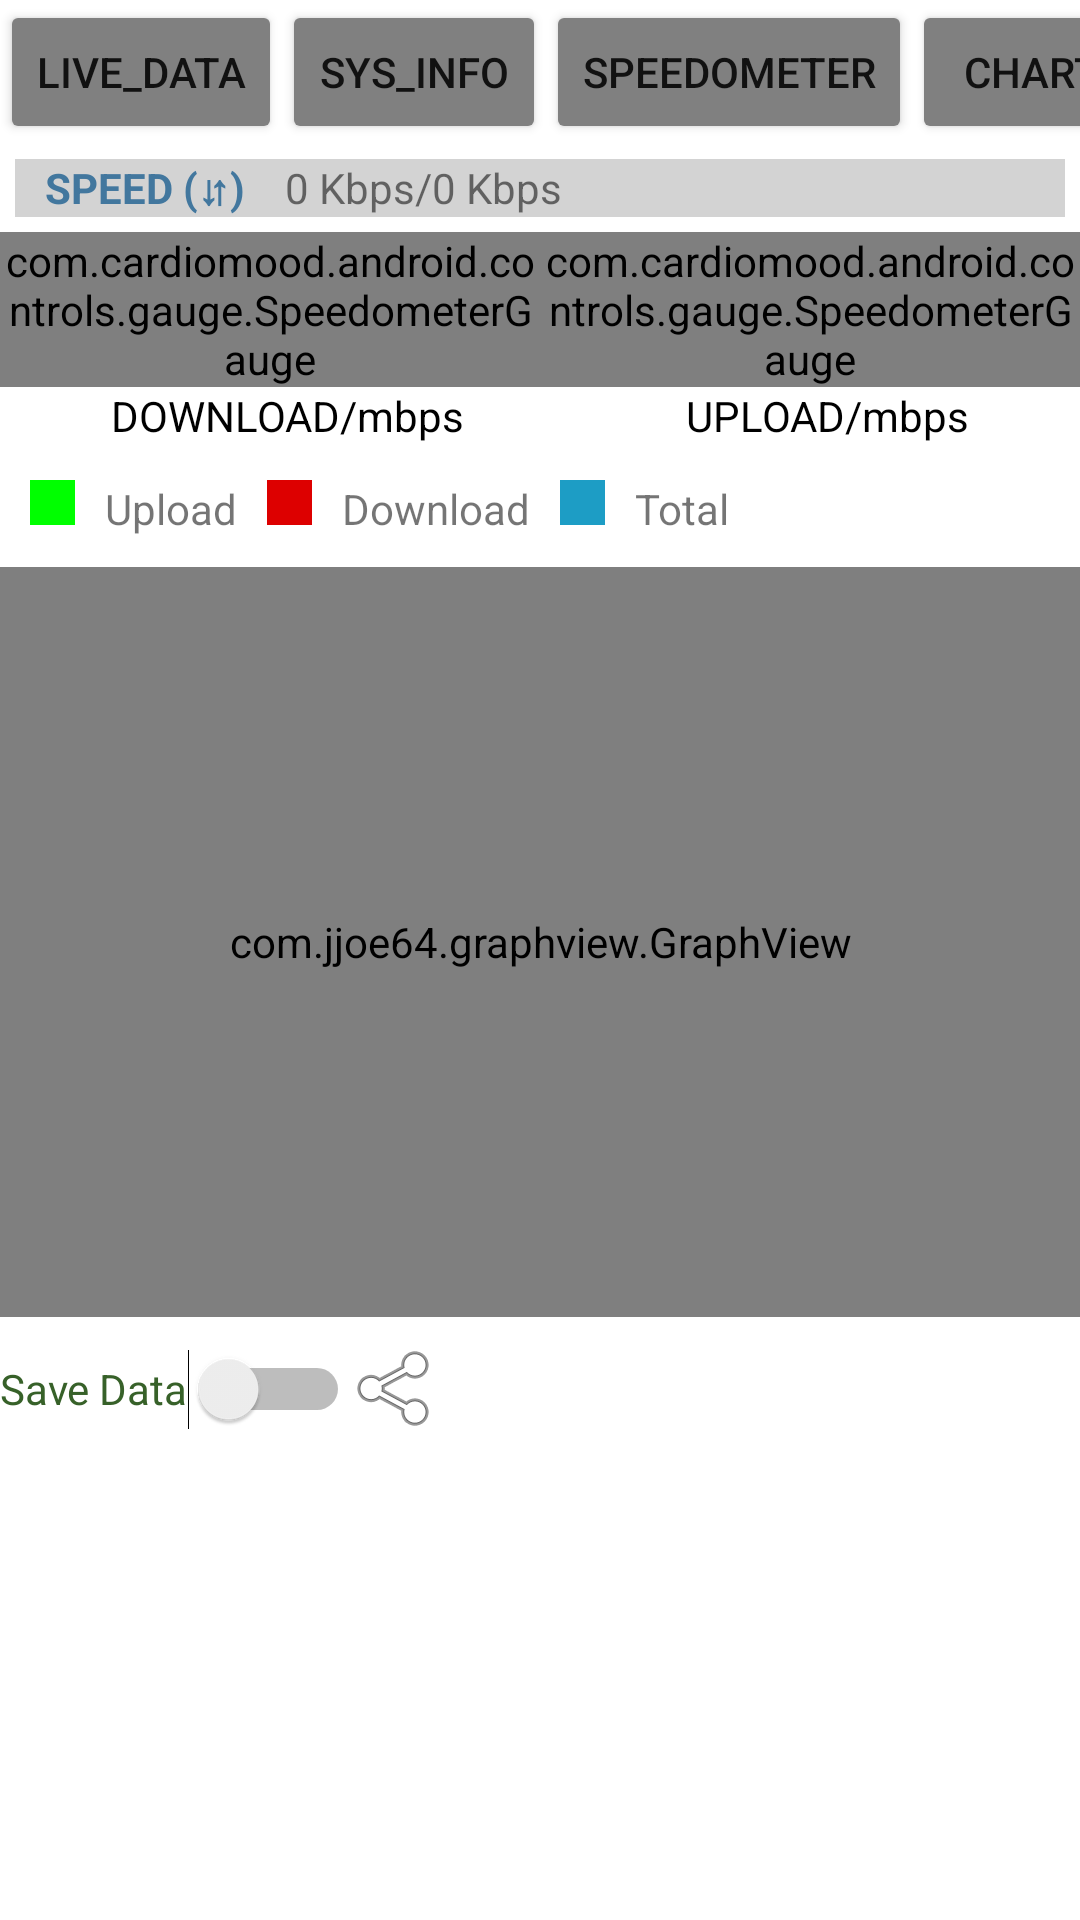

Named icons in this screenshot (1080 x 1920) and their centers, (x,y):
share: (393,1388)
